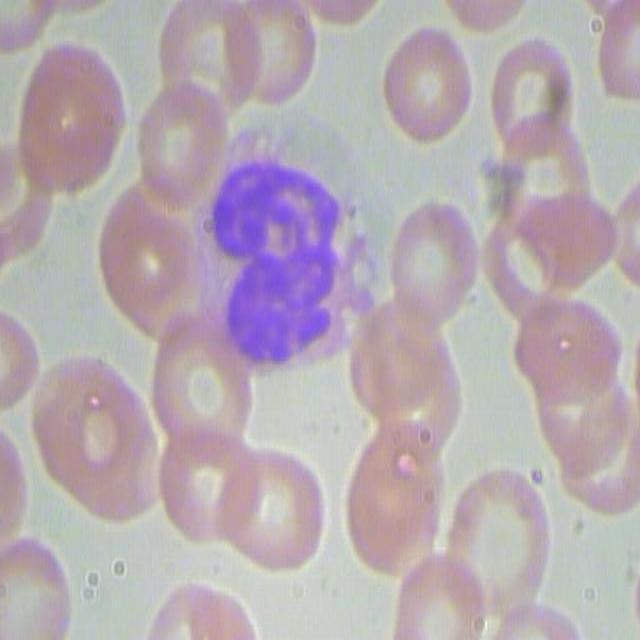RBC: (519, 296, 637, 529), (484, 116, 617, 322), (35, 352, 166, 524), (12, 42, 129, 202), (346, 293, 462, 449), (337, 424, 442, 580), (100, 179, 198, 341), (213, 446, 336, 574), (448, 468, 556, 610), (148, 314, 252, 444), (134, 80, 224, 220), (388, 198, 481, 329), (378, 25, 476, 148), (158, 0, 256, 116), (154, 427, 249, 543), (486, 33, 575, 156), (228, 0, 320, 111), (482, 208, 568, 316), (384, 558, 485, 640), (143, 573, 264, 640), (0, 531, 73, 638), (0, 146, 45, 267), (592, 0, 640, 100), (0, 302, 39, 417), (435, 0, 533, 35), (291, 0, 393, 33)
WBC: (202, 125, 373, 364)
